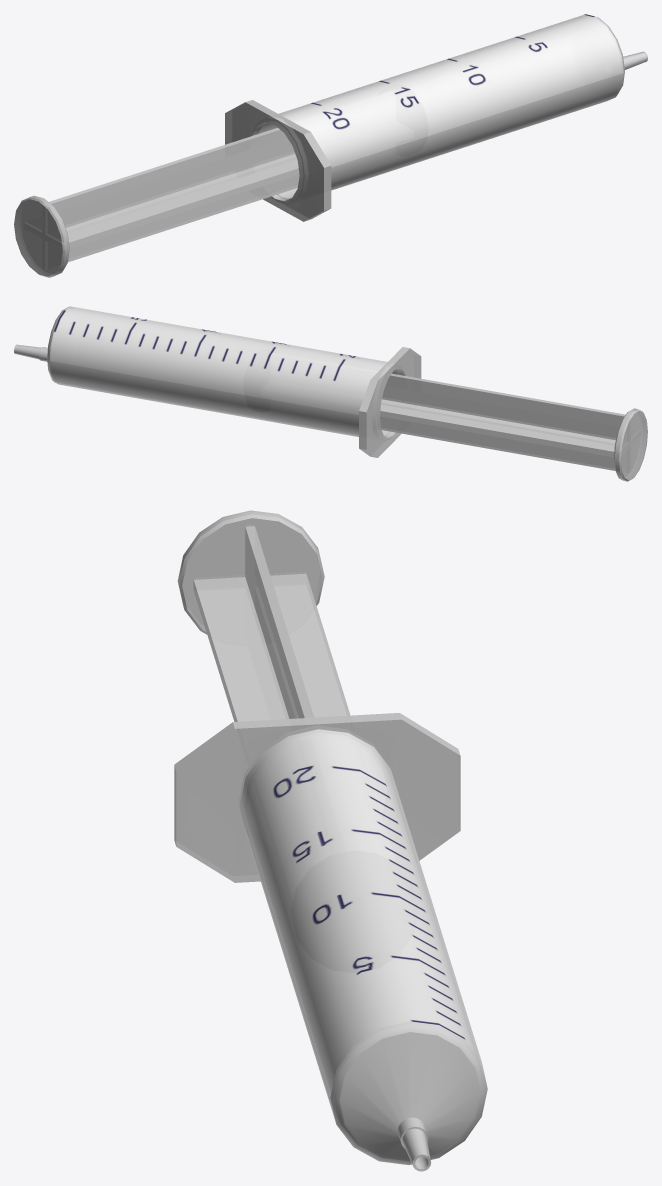
Rendered from xilanh.fbx.
3 renders of one model, top to bottom at view 1: azimuth 30°, elevation 25°; view 2: azimuth 150°, elevation 25°; view 3: azimuth 270°, elevation 25°, orthographic. The views are drawn at different scales.
Parts seen in each view (by area): view 1: xilanh:xilanh, xilanh:ong; view 2: xilanh:xilanh, xilanh:ong; view 3: xilanh:xilanh, xilanh:ong.
Part boxes in pixels (box(x1,y1,x2,y2)): xilanh:xilanh: box(225, 14, 647, 221); xilanh:ong: box(14, 127, 299, 277); xilanh:xilanh: box(14, 306, 421, 457); xilanh:ong: box(380, 373, 647, 481); xilanh:xilanh: box(174, 713, 487, 1171); xilanh:ong: box(177, 510, 350, 721).
Bounding box in the file's own units: 9.24 × 1.17 × 2.16.
Materials: 3 (1 with a texture image).
